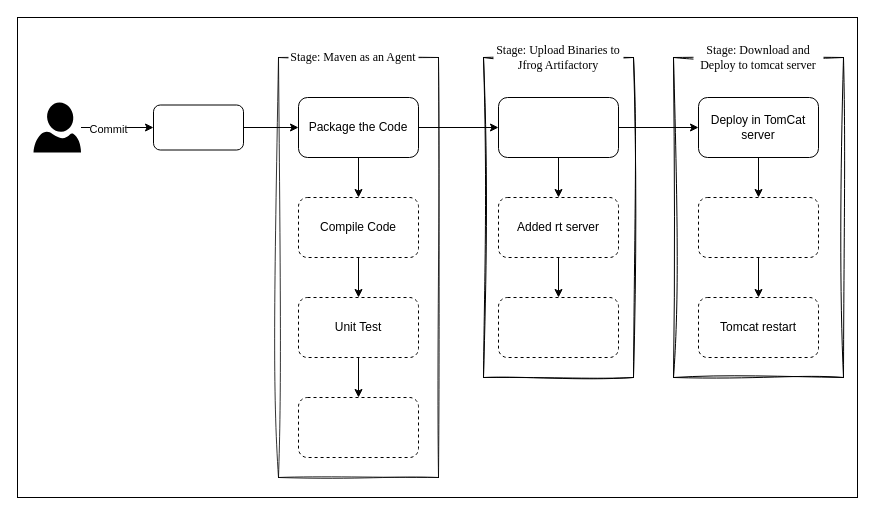
Some shapes in this 875 by 515 pixel diagram are drawn without their labels. Here are the shapes that lost their labels. From the top down, the centre of each, then its label:
At point 198,127: "Git".
At point 558,127: "Push to Jfrog artifactory".
At point 758,227: "rt download".
At point 558,327: "rt upload".
At point 358,427: "Build".
